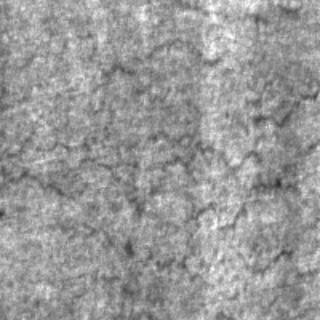crazing: (0, 128, 292, 254)
